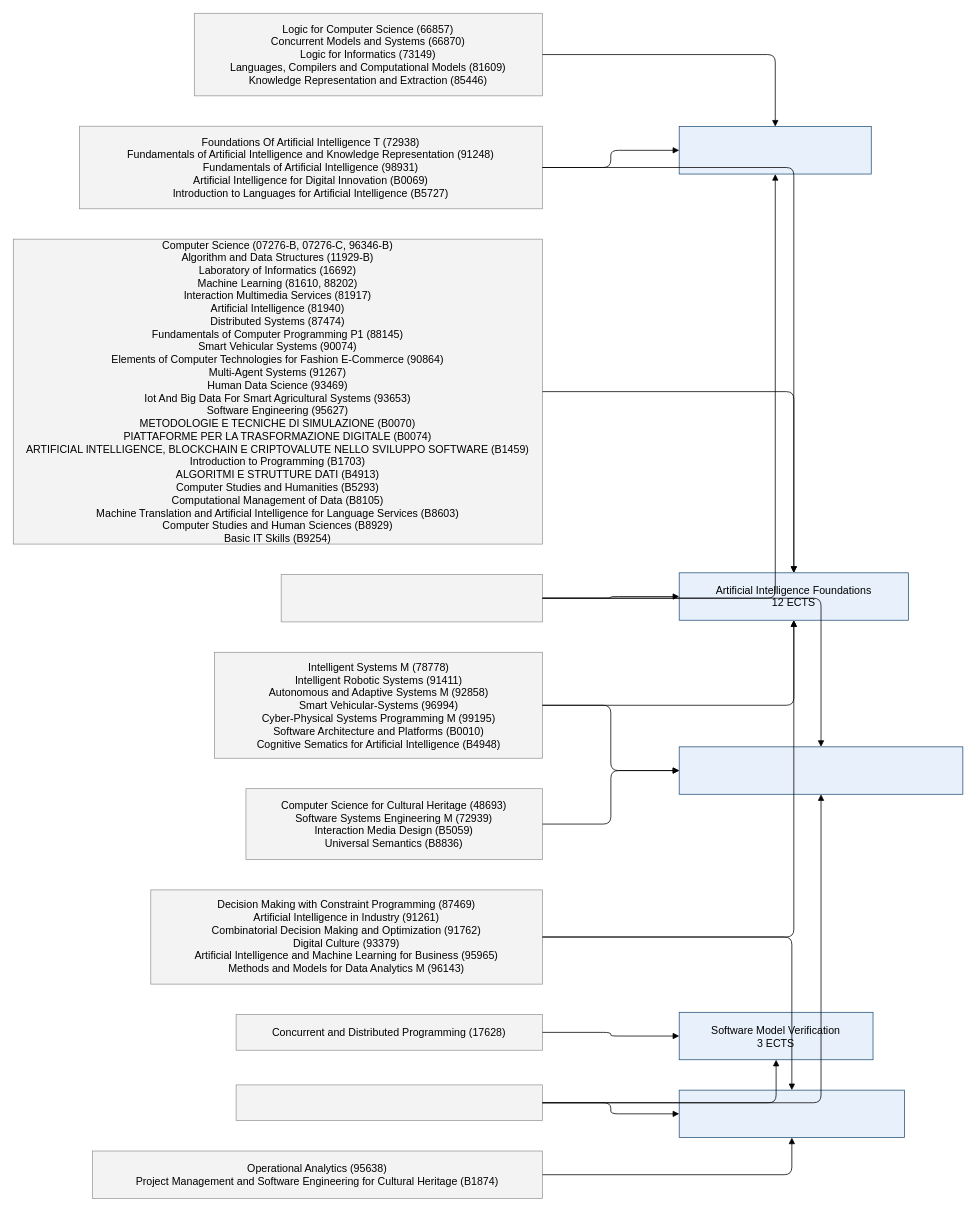
The diagram is 977 pixels wide and 1212 high, and some of its shapes have lost their labels. Here are the shapes that lost their labels. From the top down, the centre of each, then its label:
At (774,150): "Logic and Formal Reasoning 9 ECTS".
At (411,598): "Artificial intelligence (90147) Intelligent Systems Engineering (93669)".
At (820,770): "Cognitive Robotics and Autonomous Systems 12 ECTS".
At (388,1102): "Advanced Software Modelling and Design (B0009)".
At (791,1113): "Optimization and Decision Making 12 ECTS".
